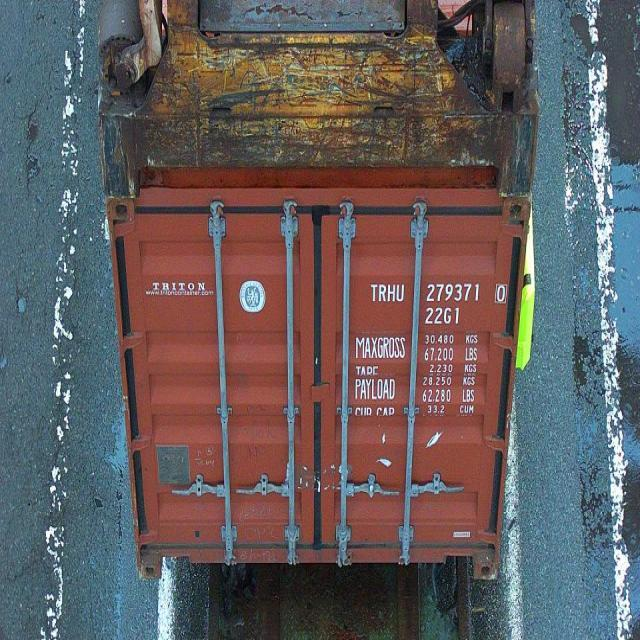ISO: (423, 306, 461, 326)
container_number: (371, 279, 501, 303)
